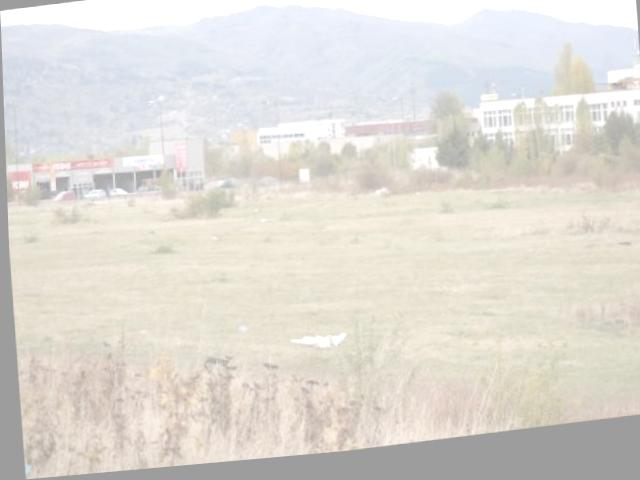uav: (285, 324, 348, 365)
